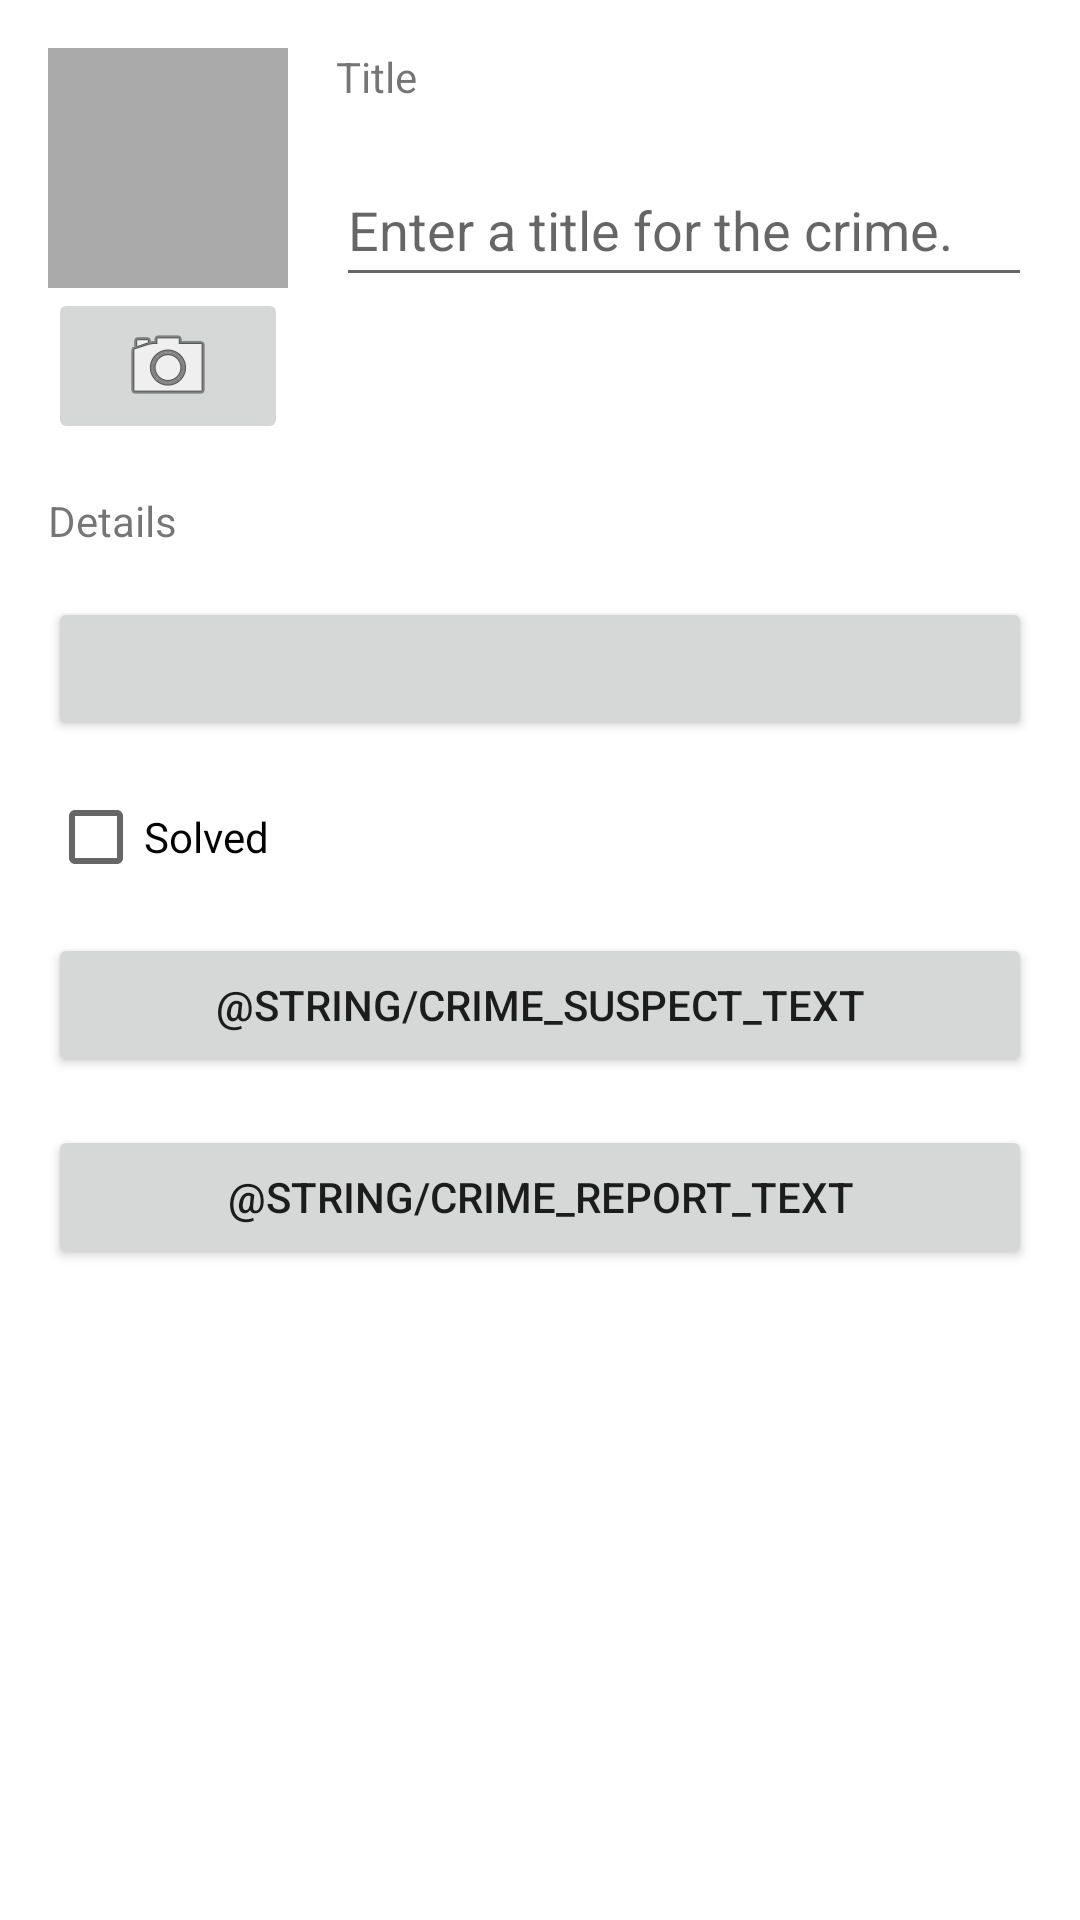

Icons on this 1080px x 1920px Android screen, each with the point to tap as (x=x, y=y):
camera: (x=168, y=366)
